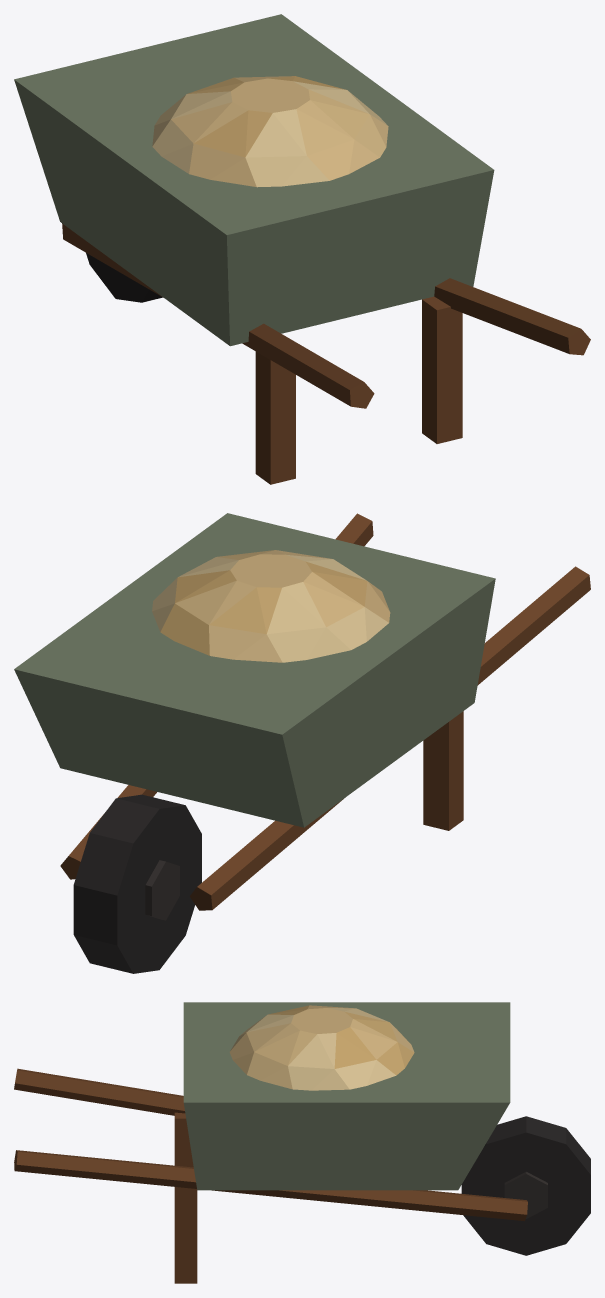
File: Wheelbarrow.glb
3 renders of one model, top to bottom at view 1: azimuth 30°, elevation 25°; view 2: azimuth 150°, elevation 25°; view 3: azimuth 270°, elevation 25°, orthographic. The views are drawn at different scales.
Visible parts, largest first — view 1: Body; view 2: Body; view 3: Body.
Part boxes in pixels (x1=…): Body: x1=14, y1=14, x2=590, y2=484; Body: x1=14, y1=513, x2=590, y2=973; Body: x1=14, y1=1002, x2=590, y2=1283.
Bounding box in the file's own units: 2.09 × 2.2 × 5.09.
